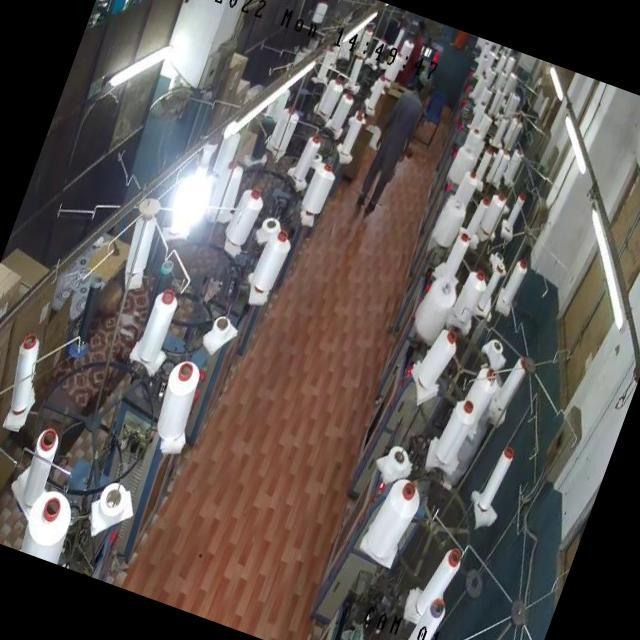person: (356, 76, 429, 210)
